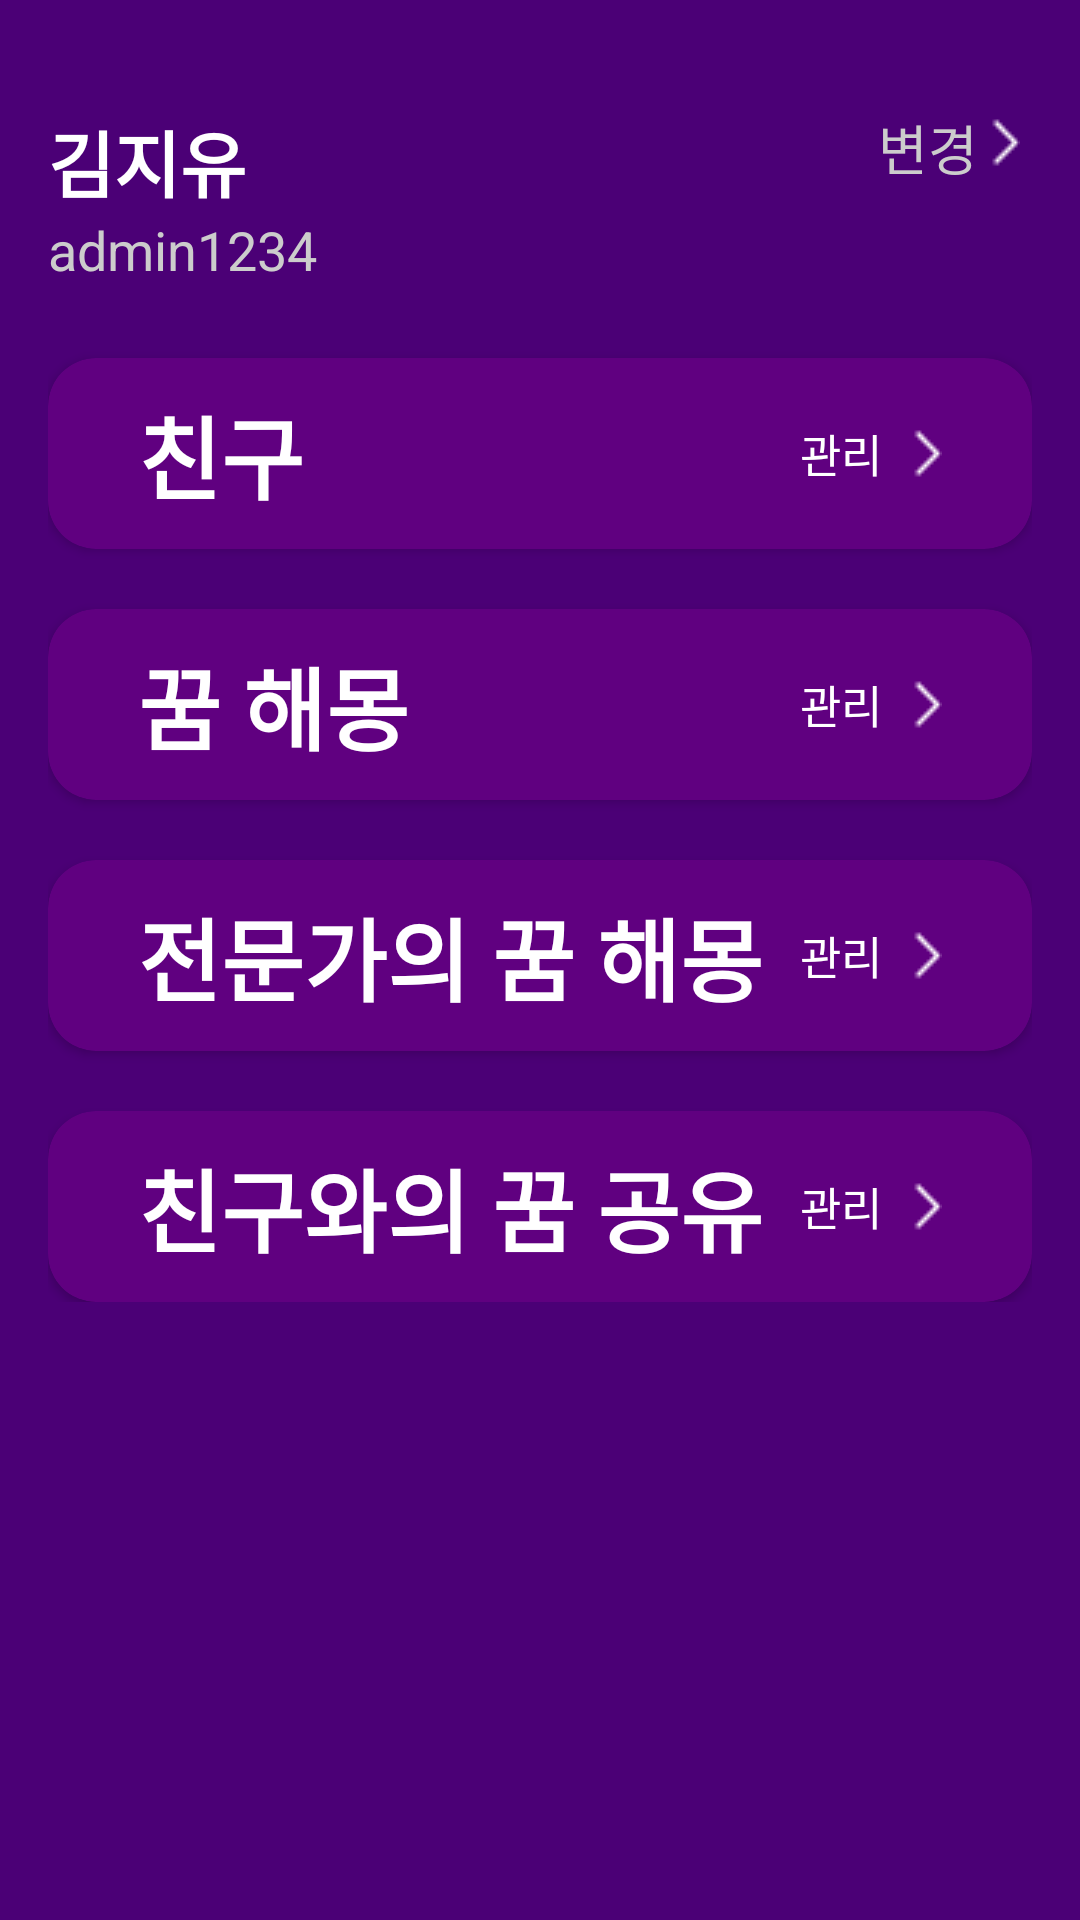

Point at icon controls on the screen. Image size 1080 × 1920, points as [x,y].
arrow right: [1006,142], [928,453], [928,704], [928,955], [928,1206]
